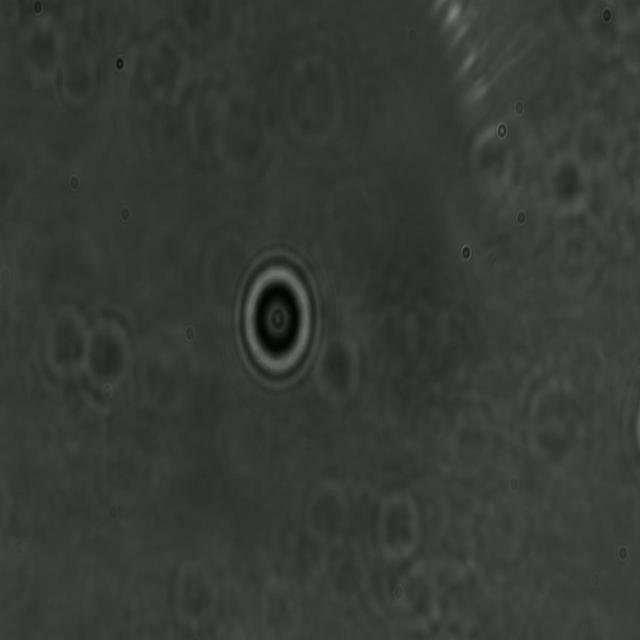LCELL: (232, 247, 325, 396)
